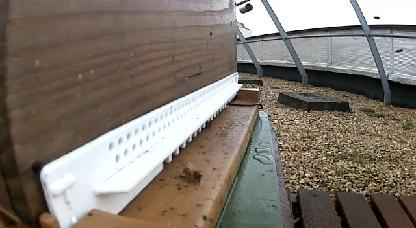bee: (178, 161, 206, 186), (393, 45, 406, 55), (371, 14, 381, 21), (205, 120, 213, 128)
